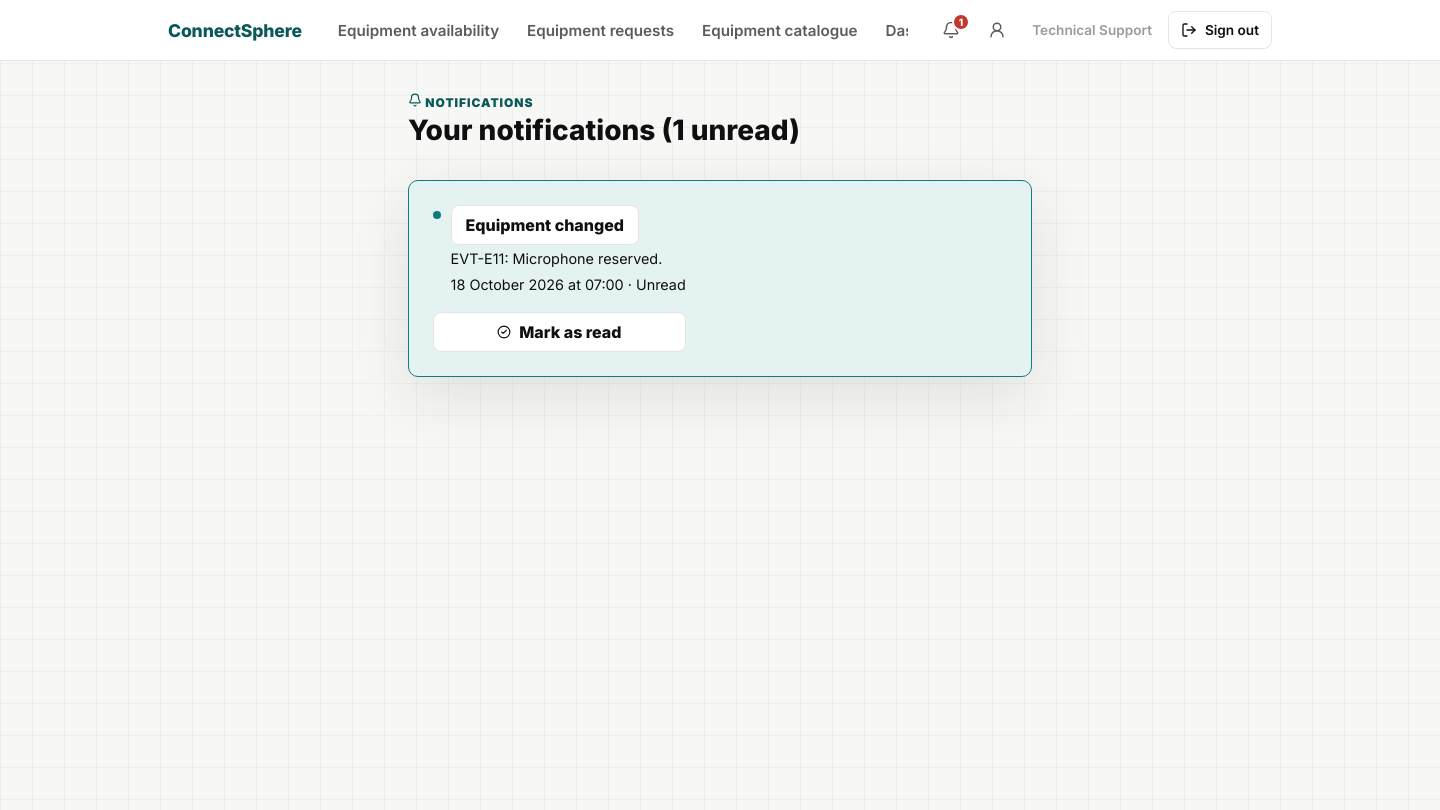
Test: TC_E11S01_07 a failed read keeps both the notice and bell unread
Expected: the link named "Notifications, 1 unread" is shown, [942,13,970,39]
What coordinates should you click on to do the following:
click the button "Mark as read"
I would click on:
 (559, 332)
Its box is [433,312,686,352].
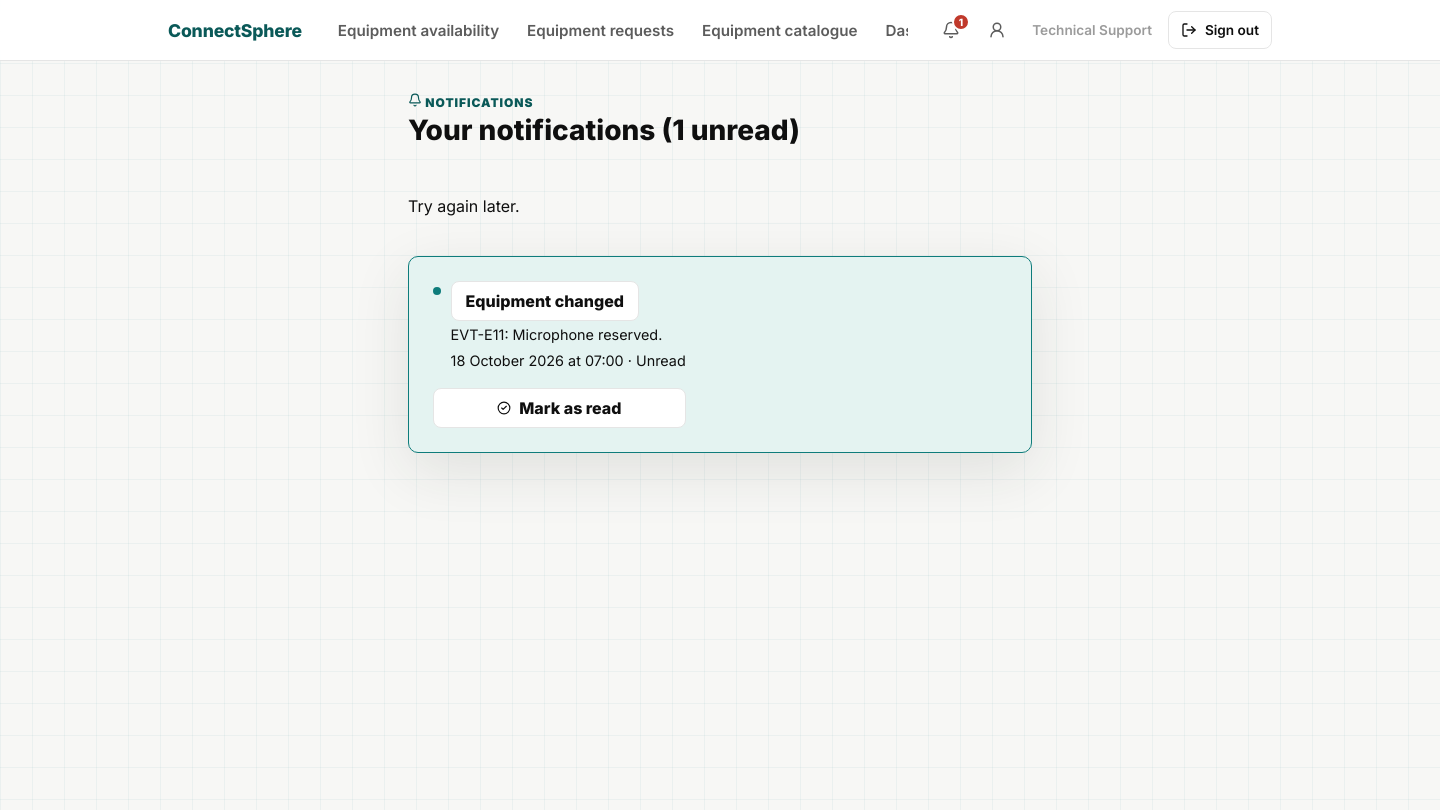
Expected: the link named "Notifications, 1 unread" is shown, [942,13,970,39]
Expected: the message reads "Try again later.", [408,196,520,216]
